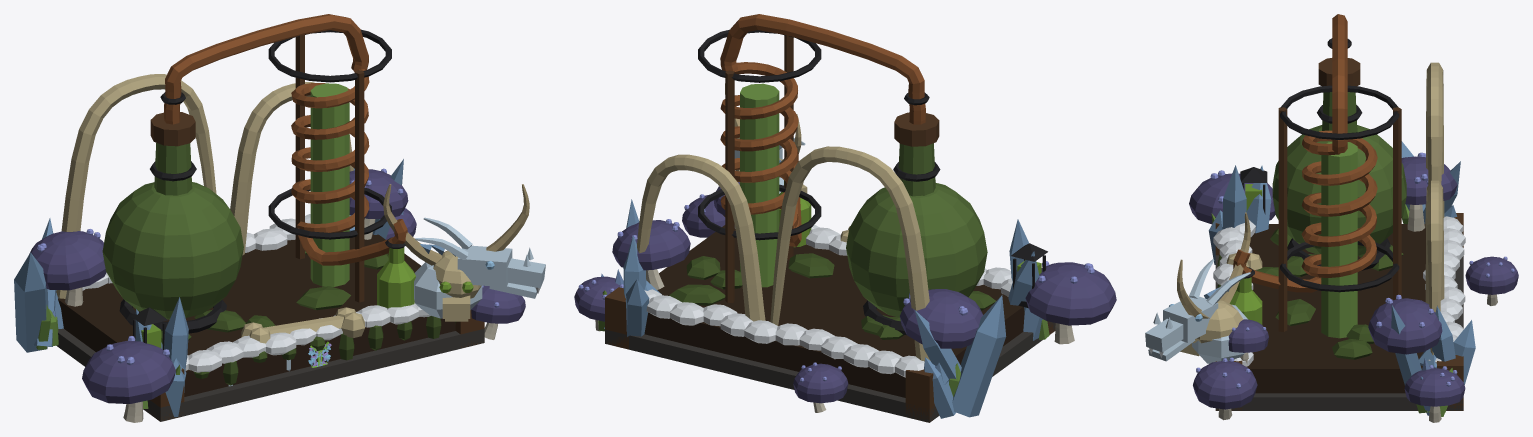
File: VFP_IceDistillery.obj
3 views of the same model, side by side, from view 1: azimuth 30°, elevation 25°; view 2: azimuth 150°, elevation 25°; view 3: azimuth 270°, elevation 25° (orthographic). The views are drawn at different scales.
Visible parts, largest first — view 1: S2_Glass, B_Base, S3_Caps, S2_Bones, B_Base_stone_dark, B_Pipes, S4_Crystals, S4_Dragon, S4_Frost, S2_Core, B_Coil, S2_Moss (+12 smaller); view 2: B_Base, S3_Caps, S2_Glass, S2_Bones, S4_Crystals, S4_Frost, B_Base_stone_dark, B_Pipes, S2_Core, B_Coil, S2_Moss, B_Coil_iron (+7 smaller); view 3: B_Base, S3_Caps, S2_Glass, B_Coil, S4_Crystals, S2_Core, S2_Bones, S4_Dragon, B_Coil_wood, S4_Frost, B_Base_stone_dark, B_Pipes (+11 smaller).
Part boxes in pixels (x1,y1,x2,y2): S2_Glass: (102, 143, 243, 319); B_Base: (58, 234, 455, 396); S3_Caps: (29, 169, 525, 403); S2_Bones: (56, 74, 364, 343); B_Base_stone_dark: (56, 328, 484, 421); B_Pipes: (164, 14, 407, 265); S4_Crystals: (14, 159, 403, 416); S4_Dragon: (414, 217, 545, 318); S4_Frost: (82, 214, 430, 372); S2_Core: (310, 83, 349, 286); B_Coil: (291, 69, 369, 232); S2_Moss: (161, 251, 456, 385); B_Base: (644, 225, 1024, 397); S3_Caps: (574, 182, 1116, 403); S2_Glass: (846, 143, 987, 317); S2_Bones: (637, 146, 930, 361); S4_Crystals: (623, 199, 1042, 418); S4_Frost: (644, 224, 1012, 377); B_Base_stone_dark: (605, 322, 1055, 422); B_Pipes: (720, 14, 925, 246); S2_Core: (740, 83, 779, 287); B_Coil: (720, 62, 798, 228); S2_Moss: (669, 253, 995, 339); B_Coil_iron: (698, 29, 821, 240); B_Base: (1247, 224, 1425, 393); S3_Caps: (1189, 156, 1518, 409); S2_Glass: (1272, 92, 1406, 255); B_Coil: (1301, 130, 1377, 277); S4_Crystals: (1208, 141, 1475, 385); S2_Core: (1321, 142, 1357, 338); S2_Bones: (1226, 62, 1444, 355); S4_Dragon: (1145, 259, 1250, 363); B_Coil_wood: (1278, 107, 1401, 332); S4_Frost: (1213, 216, 1465, 366); B_Base_stone_dark: (1215, 255, 1463, 410); B_Pipes: (1233, 14, 1347, 292).
Size of the model in its own units: 2.51 by 1.73 by 1.96.
